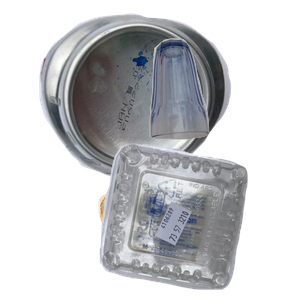glass: (147, 36, 300, 168)
metal: (37, 11, 261, 180)
plastic: (97, 141, 300, 300)
trash: (96, 181, 277, 300)
